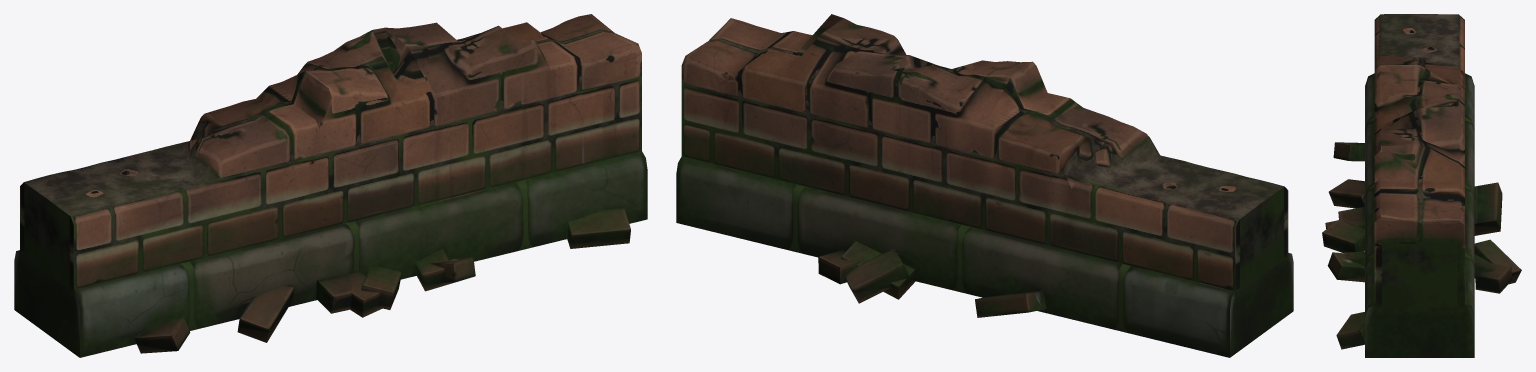
Rendered from sunken_wall_low.glb.
3 views of the same model, side by side, from view 1: azimuth 30°, elevation 25°; view 2: azimuth 150°, elevation 25°; view 3: azimuth 270°, elevation 25° (orthographic). The views are drawn at different scales.
Parts seen in each view (by area): view 1: sunken_wall_low; view 2: sunken_wall_low; view 3: sunken_wall_low.
Boxes of the visible parts, box(x1,y1,x2,y2) form: sunken_wall_low: box(14, 14, 647, 357); sunken_wall_low: box(676, 14, 1293, 357); sunken_wall_low: box(1322, 14, 1521, 357).
Bounding box in the file's own units: 4 × 1.45 × 1.46.
1 material, 1 textured.
